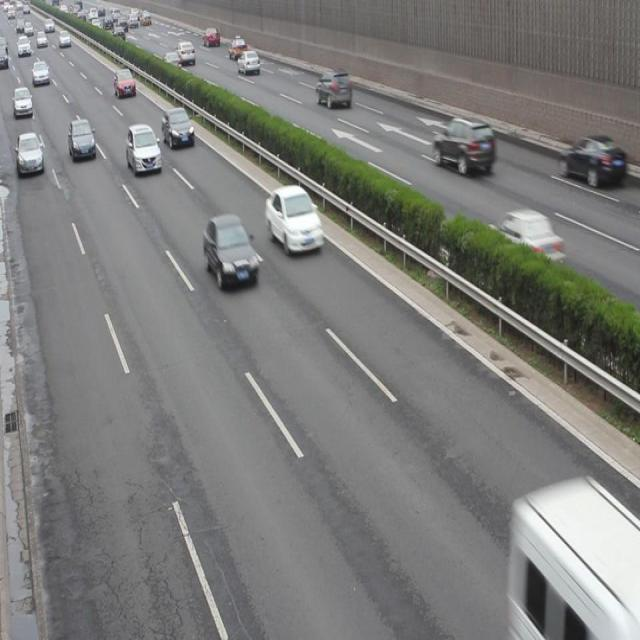car: (484, 208, 562, 274), (202, 213, 258, 291), (266, 183, 324, 256), (432, 114, 496, 178), (558, 134, 622, 191), (126, 124, 162, 176), (315, 67, 352, 111), (162, 106, 195, 150), (68, 117, 98, 164), (15, 130, 44, 176)
truck: (514, 486, 640, 640)
